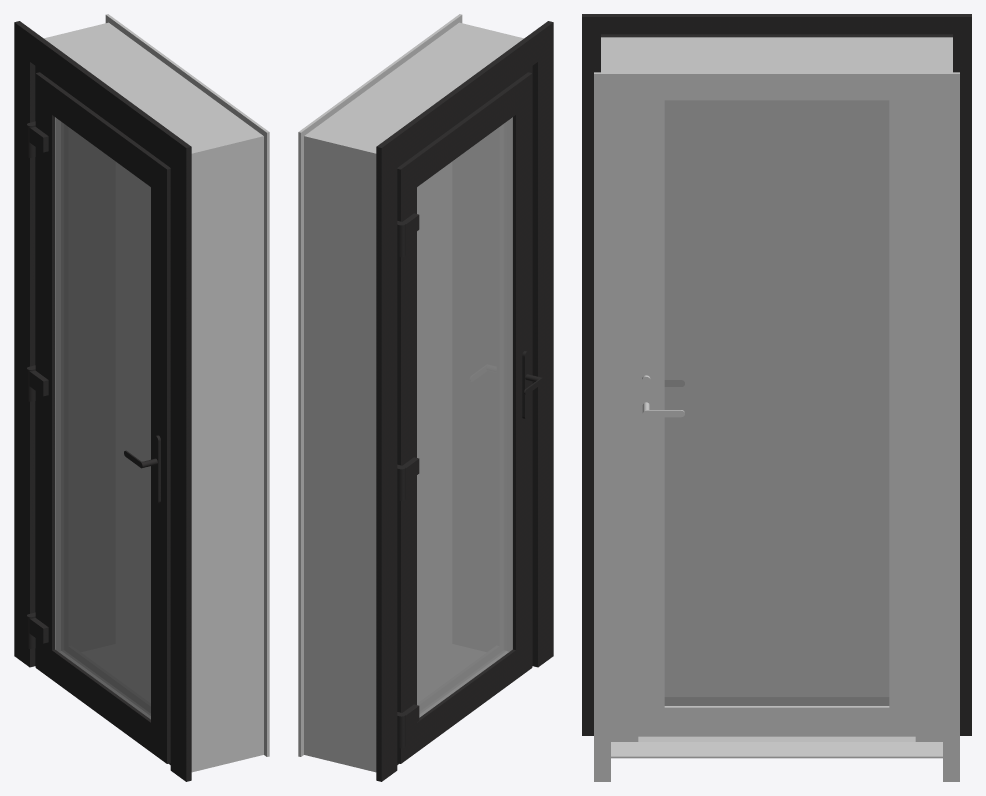
The model's file is Door ext 10x22.fbx.
The picture shows the model from 3 angles, left to right: view 1: azimuth 30°, elevation 25°; view 2: azimuth 150°, elevation 25°; view 3: azimuth 270°, elevation 25°; orthographic projection. The views are drawn at different scales.
Visible parts, largest first — view 1: Group8, Group9, Group1, Group2, Group6, Group3, Group4, Group5; view 2: Group8, Group9, Group1, Group2, Group6, Group3, Group4, Group5; view 3: Group2, Group1, Group8, Group9, Group7.
Boxes of the visible parts, x1,y1,x2,y2 form: Group8: [44, 14, 269, 772]; Group9: [14, 21, 191, 781]; Group1: [55, 117, 150, 719]; Group2: [61, 122, 150, 715]; Group6: [124, 435, 160, 503]; Group3: [27, 121, 48, 157]; Group4: [27, 612, 48, 648]; Group5: [27, 365, 48, 401]; Group8: [298, 14, 523, 772]; Group9: [376, 21, 553, 781]; Group1: [417, 117, 512, 717]; Group2: [417, 122, 506, 712]; Group6: [522, 351, 543, 419]; Group3: [397, 213, 419, 257]; Group4: [397, 704, 419, 748]; Group5: [397, 457, 419, 500]; Group2: [664, 100, 889, 705]; Group1: [665, 101, 888, 705]; Group8: [594, 37, 959, 781]; Group9: [582, 14, 971, 735]; Group7: [642, 375, 684, 453].
Size of the model in its own units: 393 by 2254 by 1108.
